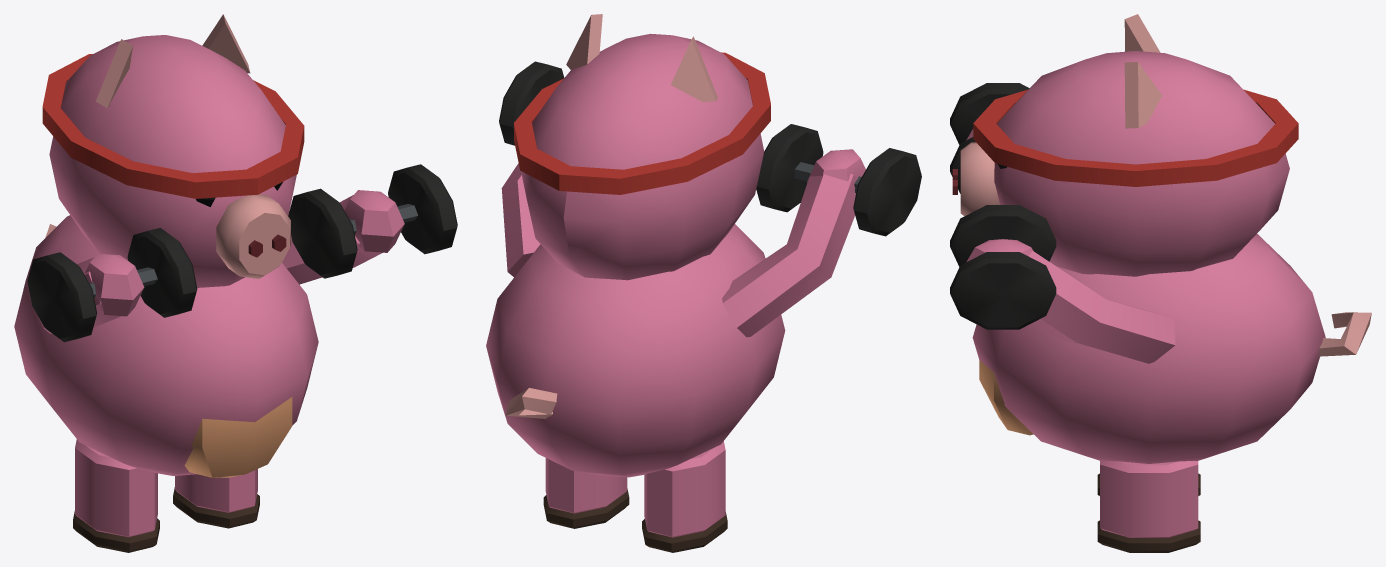
Rendered from 174_cochon_costaud.fbx.
The picture shows the model from 3 angles, left to right: view 1: azimuth 30°, elevation 25°; view 2: azimuth 150°, elevation 25°; view 3: azimuth 270°, elevation 25°; orthographic projection. The views are drawn at different scales.
Visible parts, largest first — view 1: Corps, Accessoire; view 2: Corps, Accessoire; view 3: Corps, Accessoire.
Part boxes in pixels (x1=…): Corps: x1=14, y1=14, x2=404, y2=552; Accessoire: x1=27, y1=54, x2=457, y2=342; Corps: x1=486, y1=14, x2=865, y2=552; Accessoire: x1=499, y1=52, x2=921, y2=236; Corps: x1=952, y1=14, x2=1371, y2=552; Accessoire: x1=950, y1=83, x2=1298, y2=329.
Size of the model in its own units: 0.56 by 0.7 by 0.56.
Materials: 1 (1 with a texture image).
